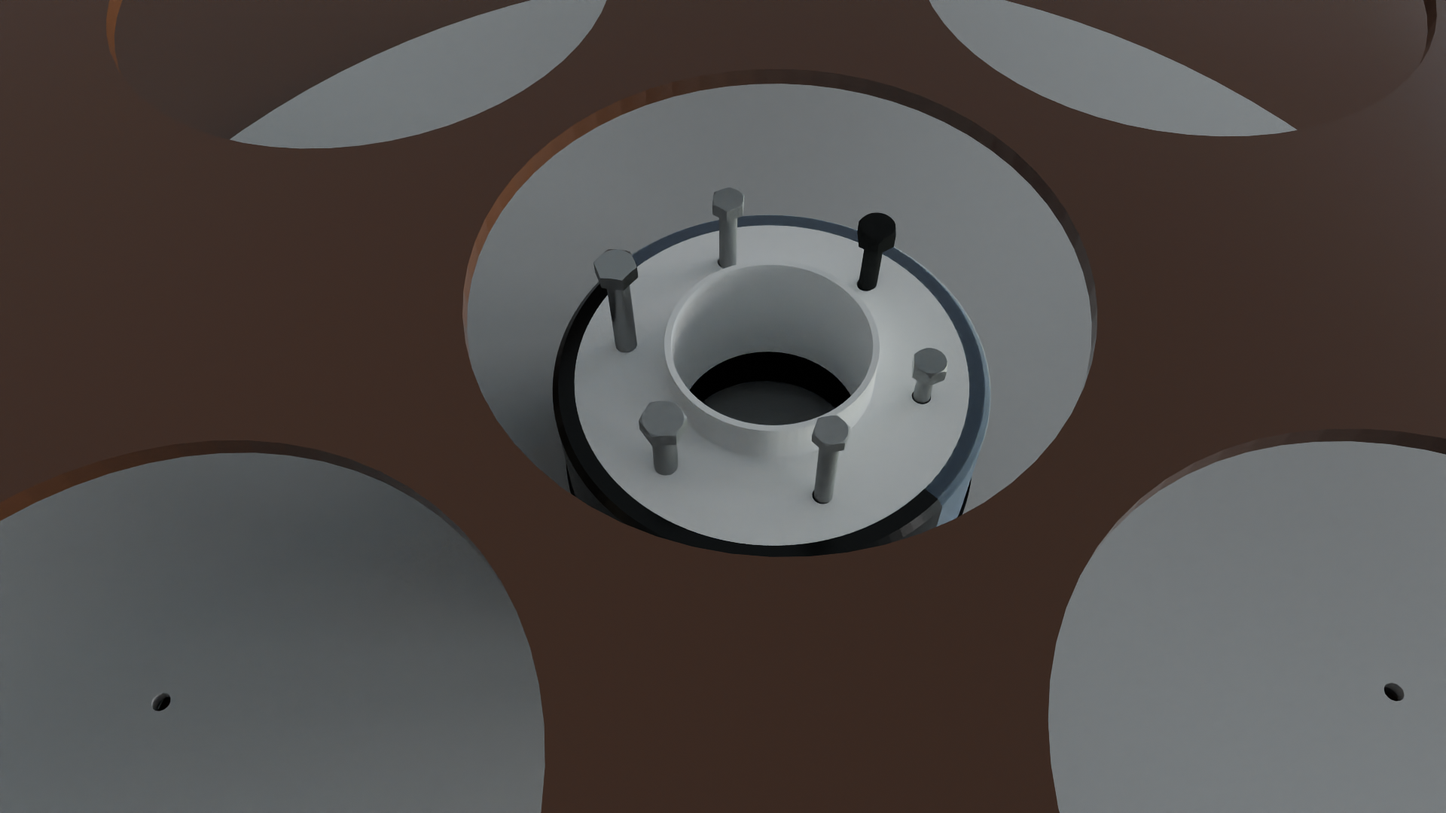bolt: (639, 400, 687, 437), (593, 249, 637, 281), (859, 212, 896, 244), (813, 415, 850, 446), (914, 348, 947, 378), (712, 187, 744, 212)
